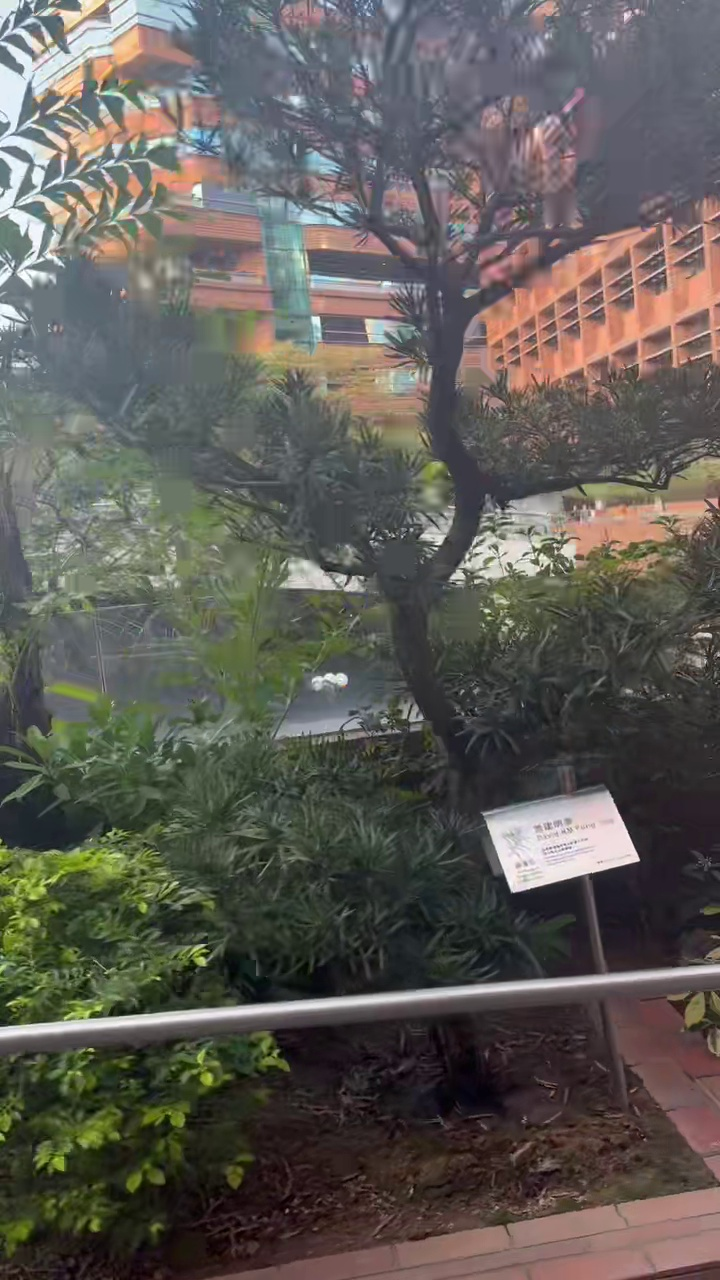Podocarpus macrophyllus: (83, 0, 719, 767)
